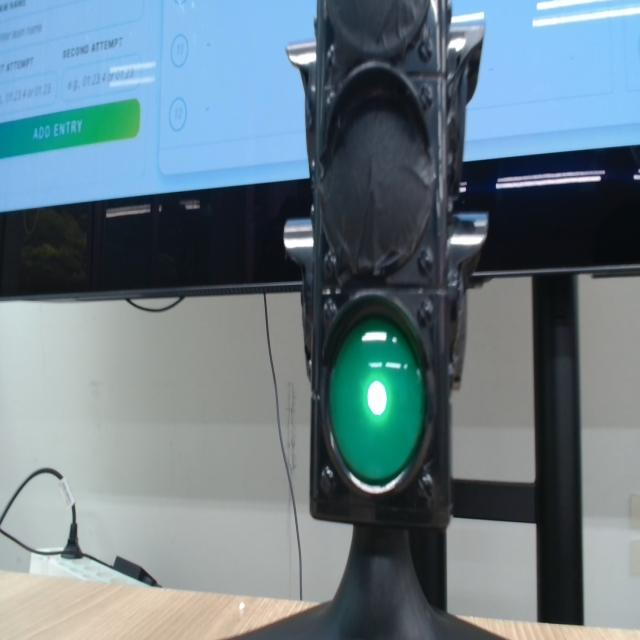green_light: (329, 317, 426, 485), (367, 381, 386, 415)
